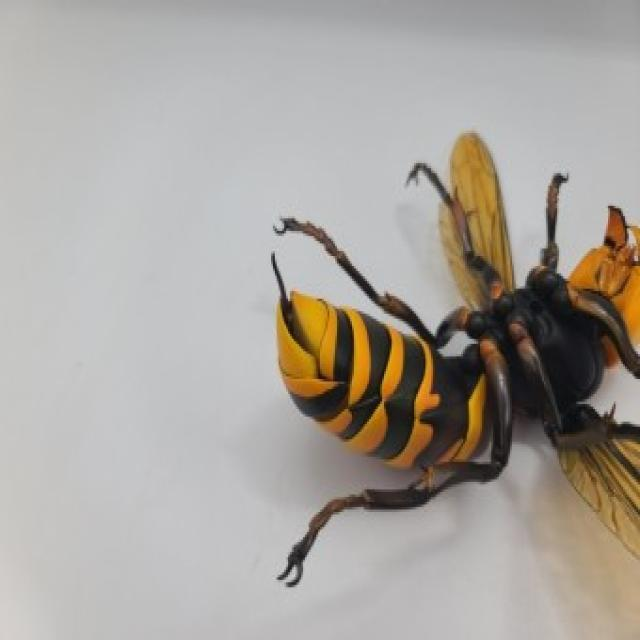Wasp: (254, 118, 640, 587)
